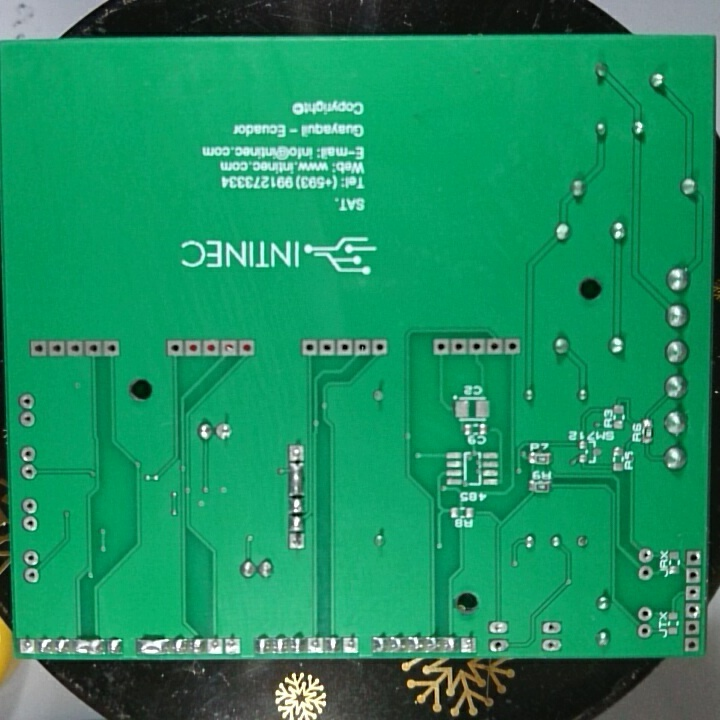F: (367, 383, 390, 407), (636, 562, 656, 588), (214, 420, 233, 446), (17, 636, 39, 657), (27, 338, 50, 358), (102, 338, 121, 361), (489, 635, 513, 653), (287, 438, 304, 463), (18, 409, 39, 429), (17, 394, 38, 414), (65, 338, 84, 360), (237, 338, 256, 360), (489, 620, 512, 638), (83, 338, 103, 358), (166, 338, 184, 359), (450, 335, 467, 357), (344, 634, 361, 656), (300, 339, 319, 358), (334, 338, 353, 357), (485, 337, 504, 356), (574, 535, 593, 554), (287, 532, 306, 551), (21, 463, 39, 483), (433, 337, 450, 358), (305, 636, 322, 657), (23, 566, 44, 583), (48, 338, 64, 360), (542, 619, 564, 635), (636, 622, 659, 637), (201, 339, 219, 358), (221, 338, 239, 357), (353, 338, 371, 357), (467, 338, 485, 357), (635, 546, 654, 564), (684, 601, 702, 620), (318, 338, 335, 358), (224, 635, 241, 655), (183, 339, 199, 360), (685, 582, 701, 603), (541, 638, 565, 652), (372, 337, 387, 359), (505, 336, 520, 358), (684, 566, 702, 584), (684, 637, 701, 655), (20, 445, 37, 463), (24, 549, 41, 566), (460, 635, 474, 655), (207, 636, 221, 655), (686, 550, 702, 566), (636, 606, 653, 621), (20, 496, 37, 511), (684, 618, 698, 636), (22, 515, 40, 529)
P: (287, 460, 305, 495), (75, 639, 106, 657), (136, 640, 168, 657)
